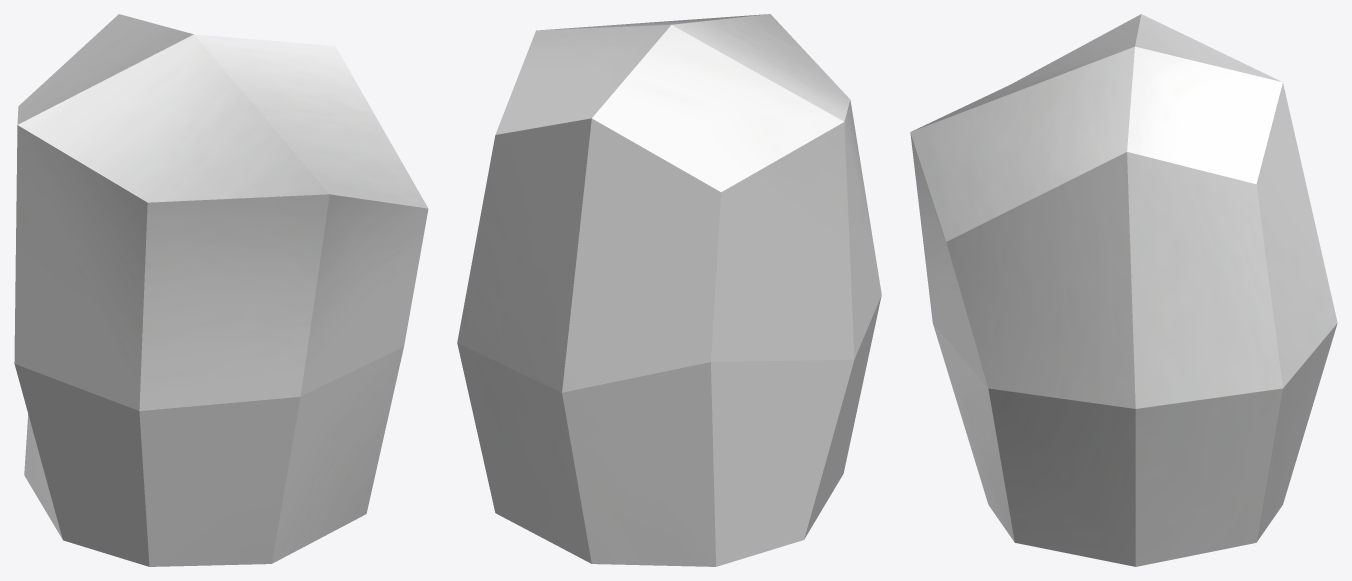
File: Env_Rock_1_model.fbx
The picture shows the model from 3 angles, left to right: view 1: azimuth 30°, elevation 25°; view 2: azimuth 150°, elevation 25°; view 3: azimuth 270°, elevation 25°; orthographic projection. The views are drawn at different scales.
Visible parts, largest first — view 1: Env_Rock_01; view 2: Env_Rock_01; view 3: Env_Rock_01.
Part boxes in pixels (left/top/right/bottom): Env_Rock_01: left=14, top=14, right=428, bottom=566; Env_Rock_01: left=457, top=14, right=881, bottom=566; Env_Rock_01: left=910, top=14, right=1337, bottom=566.
Size of the model in its own units: 4.67 by 6.14 by 4.93.
